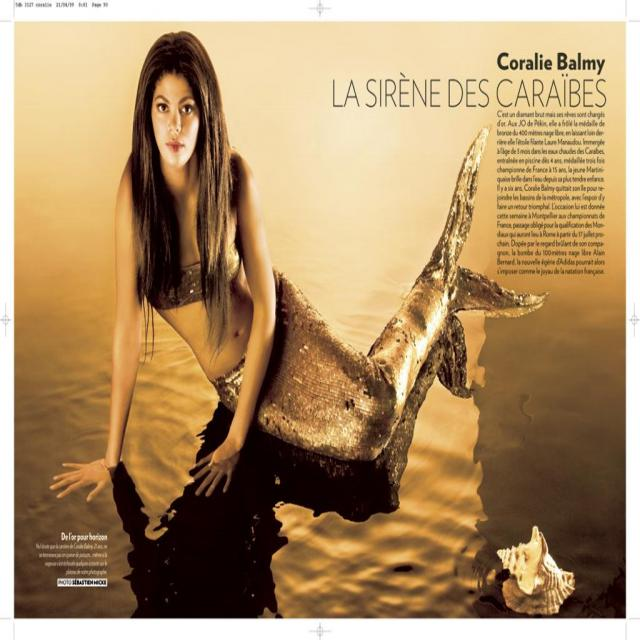nomask: (154, 78, 200, 160)
